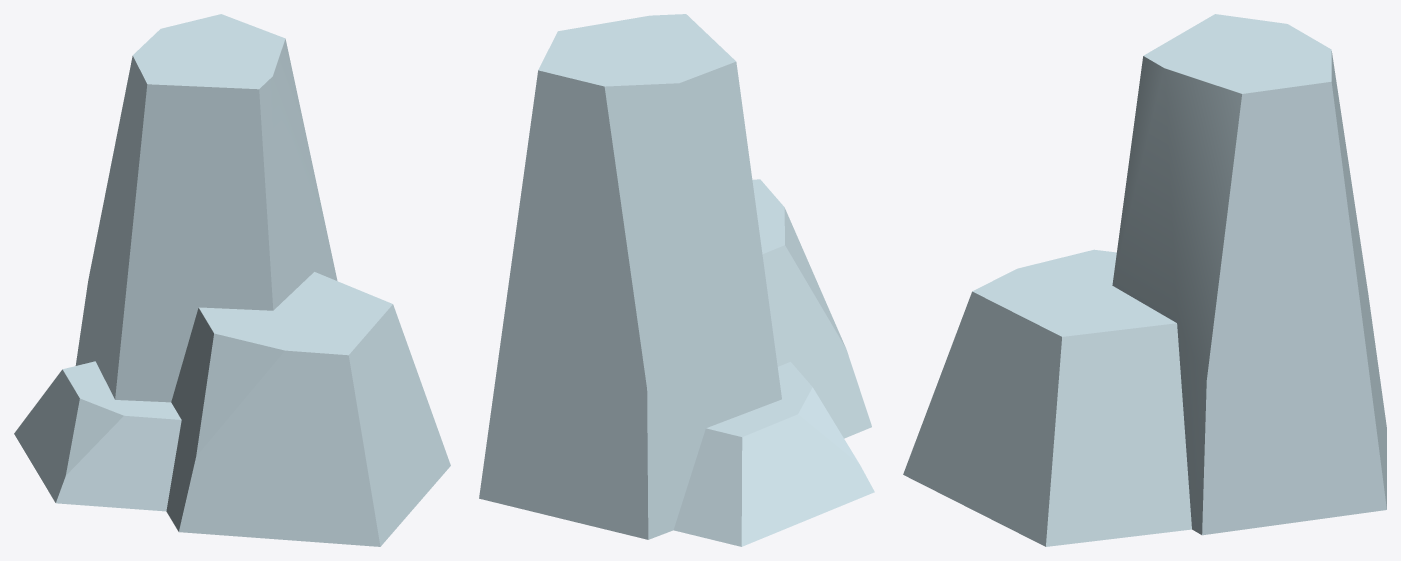
The picture shows the model from 3 angles, left to right: view 1: azimuth 30°, elevation 25°; view 2: azimuth 150°, elevation 25°; view 3: azimuth 270°, elevation 25°; orthographic projection. The views are drawn at different scales.
Visible parts, largest first — view 1: rockSmall; view 2: rockSmall; view 3: rockSmall.
Boxes of the visible parts, x1=… form: rockSmall: x1=14, y1=14, x2=450, y2=546; rockSmall: x1=479, y1=14, x2=874, y2=546; rockSmall: x1=903, y1=14, x2=1386, y2=546.
Bounding box in the file's own units: 0.9419 × 1.02 × 1.08.
